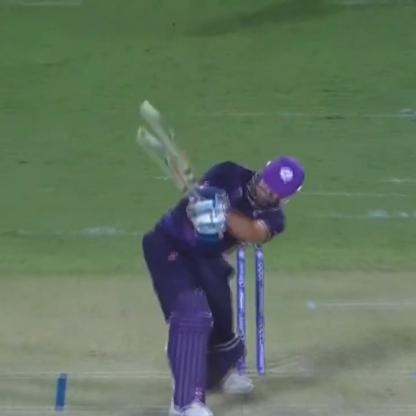bat: (132, 95, 212, 186), (129, 124, 194, 206)
